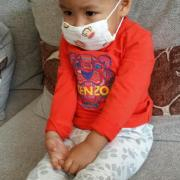WRONG: (61, 2, 112, 53)
